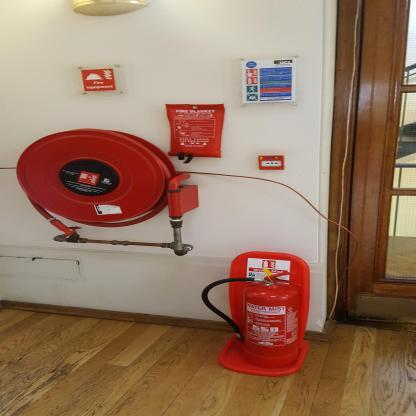Fire Extinguisher: (192, 256, 323, 371)
hose: (16, 126, 178, 237)
